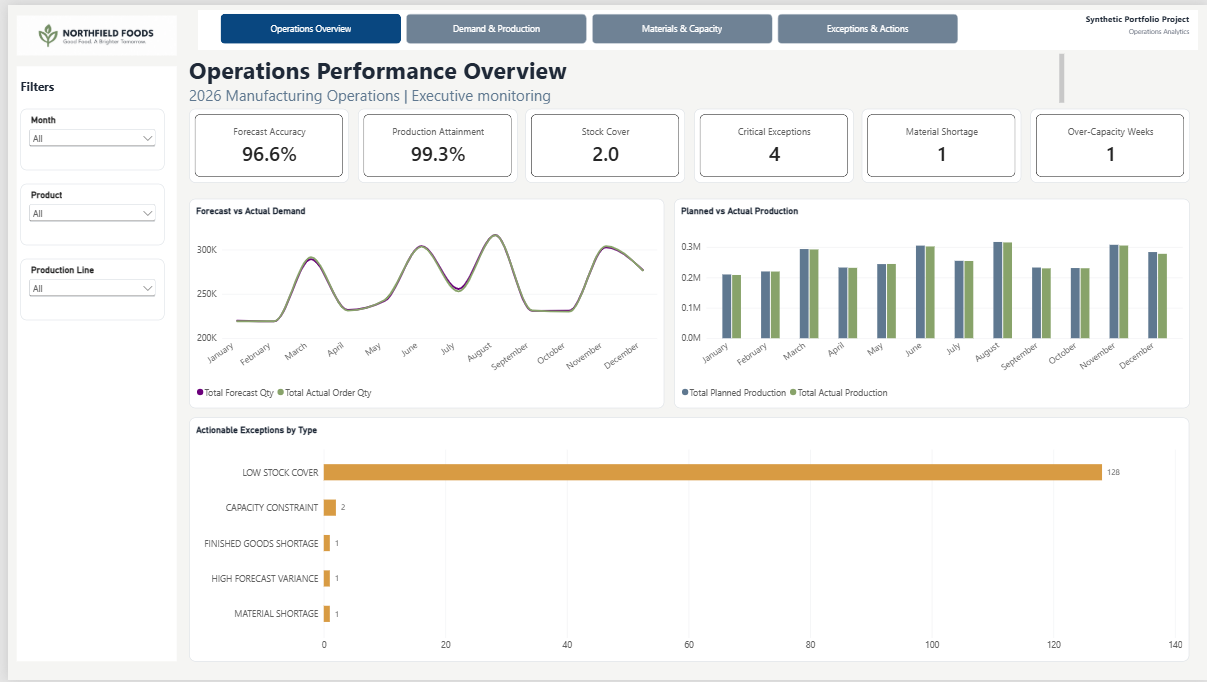

The dashboard page shown, as its layout file describes it:
{"tool":"powerbi","page":{"name":"Operations Overview","canvas":[1920,1080],"ordinal":0},"visuals":[{"type":"shape","box":[14,98,256,952],"z":0},{"type":"shape","box":[304,8,1600,64],"z":1000},{"type":"textbox","box":[290,78,1400,80],"z":2000},{"type":"slicer","fields":{"Values":["dim_Week.Month"]},"box":[20,165,230,98],"z":3000},{"type":"slicer","fields":{"Values":["dim_Product.Product_ID"]},"box":[20,285,230,98],"z":4000},{"type":"slicer","fields":{"Values":["dim_ProductionLine.Line_ID"]},"box":[20,405,230,98],"z":5000},{"type":"cardVisual","fields":{"Data":["_Measures.Forecast Accuracy %"]},"box":[290,165,255,118],"z":6000},{"type":"cardVisual","fields":{"Data":["_Measures.Production Attainment %"]},"box":[559,165,255,118],"z":7000},{"type":"cardVisual","fields":{"Data":["_Measures.Average Stock Cover Days"]},"box":[828,165,255,118],"z":8000},{"type":"cardVisual","fields":{"Data":["_Measures.Critical Exceptions"]},"box":[1097,165,255,118],"z":9000},{"type":"cardVisual","fields":{"Data":["_Measures.Material Shortage Events"]},"box":[1366,165,255,118],"z":10000},{"type":"cardVisual","fields":{"Data":["_Measures.Over-Capacity Line-Weeks"]},"box":[1635,165,255,118],"z":11000},{"type":"lineChart","title":"Forecast vs Actual Demand","fields":{"Category":["dim_Week.Month"],"Y":["_Measures.Total Forecast Qty","_Measures.Total Actual Order Qty"]},"box":[290,310,760,335],"z":12000},{"type":"clusteredColumnChart","title":"Planned vs Actual Production","fields":{"Category":["dim_Week.Month"],"Y":["_Measures.Total Planned Production","_Measures.Total Actual Production"]},"box":[1065,310,825,335],"z":13000},{"type":"clusteredBarChart","title":"Actionable Exceptions by Type","fields":{"Category":["fact_Exceptions.Primary_Exception"],"Y":["_Measures.Actionable Exceptions"]},"box":[290,660,1600,390],"z":14000},{"type":"textbox","box":[20,118,230,38],"z":15000},{"type":"textbox","box":[1600,12,290,52],"z":17000},{"type":"pageNavigator","box":[340,14,1180,48],"z":18000},{"type":"image","box":[14,0,256,98],"z":18001}]}

Visuals, with their boxes in screenshot pixels (x1, y1, x2, y2), scaled from the page's 1920x1080 canvas onto the 1207x682 screenshot:
shape: rect(9, 62, 170, 663)
shape: rect(191, 5, 1197, 45)
textbox: rect(182, 49, 1062, 100)
slicer - dim_Week.Month: rect(13, 104, 157, 166)
slicer - dim_Product.Product_ID: rect(13, 180, 157, 242)
slicer - dim_ProductionLine.Line_ID: rect(13, 256, 157, 318)
cardVisual - _Measures.Forecast Accuracy %: rect(182, 104, 343, 179)
cardVisual - _Measures.Production Attainment %: rect(351, 104, 512, 179)
cardVisual - _Measures.Average Stock Cover Days: rect(521, 104, 681, 179)
cardVisual - _Measures.Critical Exceptions: rect(690, 104, 850, 179)
cardVisual - _Measures.Material Shortage Events: rect(859, 104, 1019, 179)
cardVisual - _Measures.Over-Capacity Line-Weeks: rect(1028, 104, 1188, 179)
"Forecast vs Actual Demand" lineChart: rect(182, 196, 660, 407)
"Planned vs Actual Production" clusteredColumnChart: rect(670, 196, 1188, 407)
"Actionable Exceptions by Type" clusteredBarChart: rect(182, 417, 1188, 663)
textbox: rect(13, 75, 157, 99)
textbox: rect(1006, 8, 1188, 40)
pageNavigator: rect(214, 9, 956, 39)
image: rect(9, 0, 170, 62)
